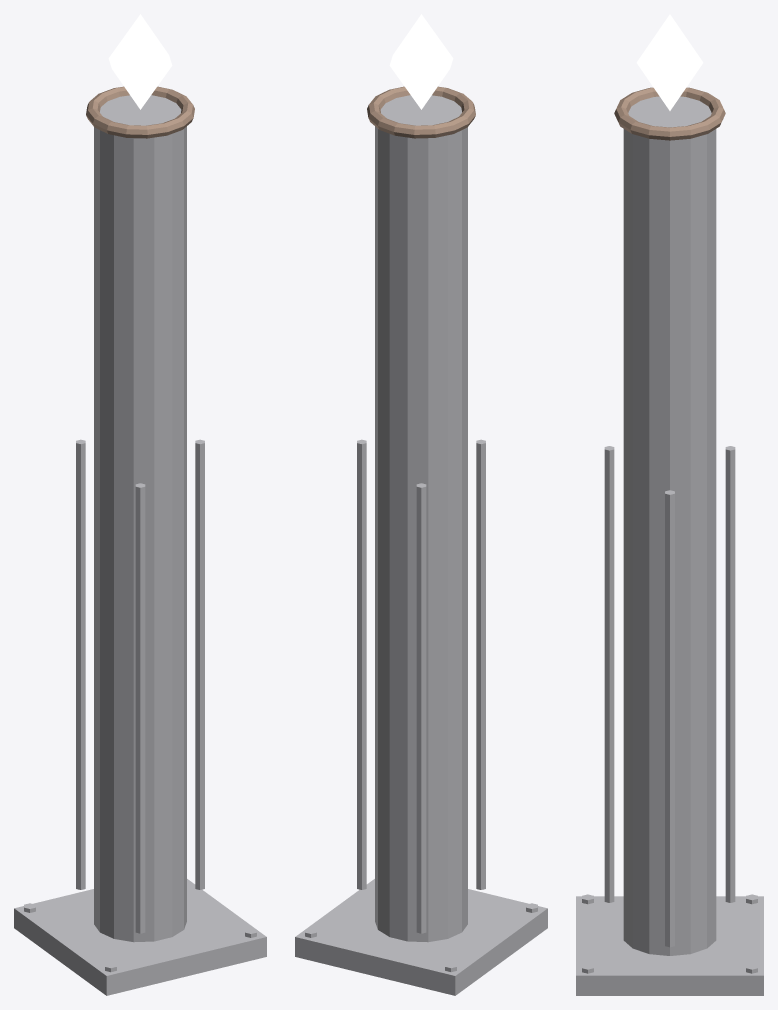
File: flare_stack_uncommon.glb
The picture shows the model from 3 angles, left to right: view 1: azimuth 30°, elevation 25°; view 2: azimuth 150°, elevation 25°; view 3: azimuth 270°, elevation 25°; orthographic projection.
Parts seen in each view (by area): view 1: flare_stack, flame; view 2: flare_stack, flame; view 3: flare_stack, flame.
Boxes of the visible parts, x1,y1,x2,y2 form: flare_stack: (14,86,266,995); flame: (108,14,172,109); flare_stack: (295,86,547,995); flame: (389,14,453,109); flare_stack: (576,87,763,995); flame: (636,14,703,110).
Bounding box in the file's own units: 1.34 × 7.44 × 1.34.
